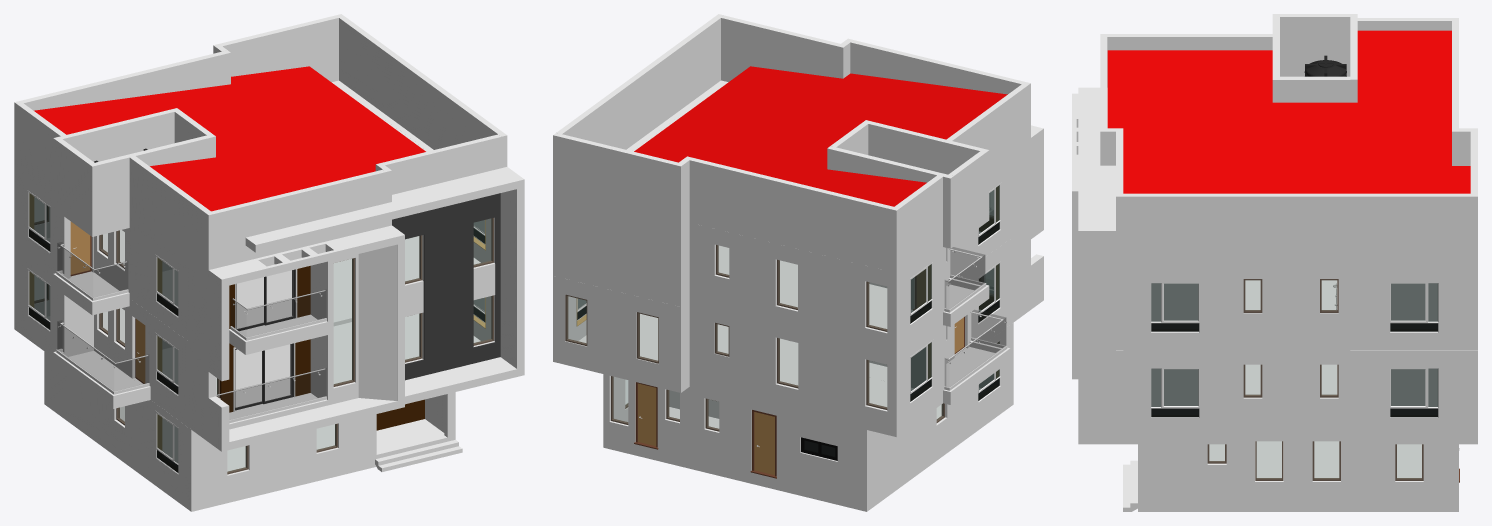
Rendered from Dun9j.glb.
3 views of the same model, side by side, from view 1: azimuth 30°, elevation 25°; view 2: azimuth 150°, elevation 25°; view 3: azimuth 270°, elevation 25° (orthographic). The views are drawn at different scales.
Visible parts, largest first — view 1: Wall Walls <1652215 230<; view 2: Wall Walls <1652215 230<; view 3: Wall Walls <1652215 230<.
Part boxes in pixels (x1,y1,x2,y2): Wall Walls <1652215 230<: [14, 14, 524, 511]; Wall Walls <1652215 230<: [553, 14, 1043, 511]; Wall Walls <1652215 230<: [1072, 14, 1477, 511].
Bounding box in the file's own units: 13.77 × 11.85 × 12.92.
